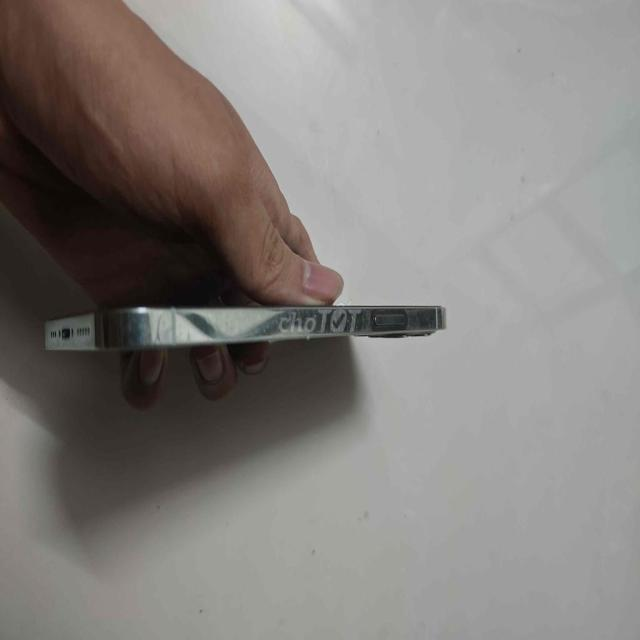gen_12_13: (48, 253, 496, 411)
